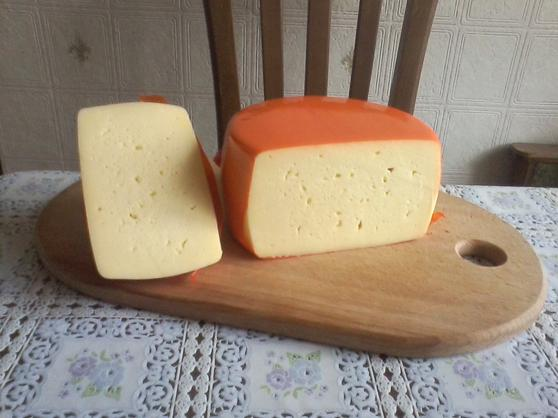cheese: (70, 101, 226, 280)
